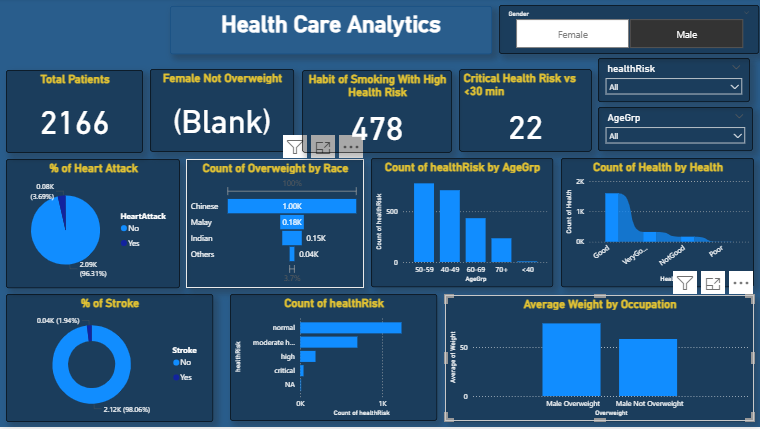

The page's visual inventory and layout, read from the dashboard file:
{"tool":"powerbi","page":{"name":"Page 1","canvas":[1280,720],"ordinal":0},"visuals":[{"type":"card","title":"Total Patients","fields":{"Values":["CountNonNull(Sample_Data.scnZone)"]},"box":[11.8,120.9,230.1,139.4],"z":0},{"type":"pieChart","title":"% of Heart Attack ","fields":{"Category":["Sample_Data.HeartAttack"],"Y":["CountNonNull(Sample_Data.HeartAttack)"]},"box":[11.8,270.4,292.3,216.7],"z":1000},{"type":"donutChart","title":"% of Stroke","fields":{"Category":["Sample_Data.Stroke"],"Y":["CountNonNull(Sample_Data.Stroke)"]},"box":[11.8,497.2,347.7,215],"z":2000},{"type":"card","title":"Female Not Overweight","fields":{"Values":["CountNonNull(Sample_Data.scnZone)"]},"box":[253.6,119.3,241.9,139.4],"z":3000},{"type":"barChart","title":"Count of healthRisk","fields":{"Category":["Sample_Data.healthRisk"],"Y":["CountNonNull(Sample_Data.healthRisk)"]},"box":[388,497.2,347.7,213.3],"z":4000},{"type":"treemap","title":"Average Weight by Occupation","fields":{"Group":["Sample_Data.OccupationType"],"Values":["Avg(Sample_Data.Weight)"]},"box":[760.9,498.9,507.3,211.7],"z":5000},{"type":"funnel","fields":{"Category":["Sample_Data.Race"],"Y":["CountNonNull(Sample_Data.Overweight)"]},"box":[314.1,270.4,299,216.7],"z":6000},{"type":"columnChart","fields":{"Category":["Sample_Data.AgeGrp"],"Y":["CountNonNull(Sample_Data.healthRisk)"]},"box":[624.9,268.8,305.7,216.7],"z":7000},{"type":"card","title":"Habit of Smoking With High Health Risk","fields":{"Values":["CountNonNull(Sample_Data.Smoking)"]},"box":[509,120.9,252,139.4],"z":8000},{"type":"card","title":"Critical Health Risk vs <30 min","fields":{"Values":["CountNonNull(Sample_Data.Exercise)"]},"box":[772.7,119.3,223.4,139.4],"z":9000},{"type":"slicer","fields":{"Values":["Sample_Data.Gender"]},"box":[839.9,11.8,436.7,82.3],"z":10000},{"type":"slicer","fields":{"Values":["Sample_Data.healthRisk"]},"box":[1006.2,100.8,255.3,73.9],"z":11000},{"type":"slicer","fields":{"Values":["Sample_Data.AgeGrp"]},"box":[1006.2,183.1,260.4,73.9],"z":12000},{"type":"ribbonChart","fields":{"Category":["Sample_Data.Health"],"Y":["CountNonNull(Sample_Data.Health)"]},"box":[944,268.8,324.2,216.7],"z":13000},{"type":"textbox","box":[287.2,13.4,540.9,80.6],"z":14000}]}

Visuals, with their boxes in screenshot pixels (x1, y1, x2, y2), scaled from the page's 1280x720 canvas onto the 760x429 screenshot:
"Total Patients" card: BBox(7, 72, 144, 155)
"% of Heart Attack " pieChart: BBox(7, 161, 181, 290)
"% of Stroke" donutChart: BBox(7, 296, 213, 424)
"Female Not Overweight" card: BBox(151, 71, 294, 154)
"Count of healthRisk" barChart: BBox(230, 296, 437, 423)
"Average Weight by Occupation" treemap: BBox(452, 297, 753, 423)
funnel - Sample_Data.Race x CountNonNull(Sample_Data.Overweight): BBox(186, 161, 364, 290)
columnChart - Sample_Data.AgeGrp x CountNonNull(Sample_Data.healthRisk): BBox(371, 160, 553, 289)
"Habit of Smoking With High Health Risk" card: BBox(302, 72, 452, 155)
"Critical Health Risk vs <30 min" card: BBox(459, 71, 591, 154)
slicer - Sample_Data.Gender: BBox(499, 7, 758, 56)
slicer - Sample_Data.healthRisk: BBox(597, 60, 749, 104)
slicer - Sample_Data.AgeGrp: BBox(597, 109, 752, 153)
ribbonChart - Sample_Data.Health x CountNonNull(Sample_Data.Health): BBox(560, 160, 753, 289)
textbox: BBox(171, 8, 492, 56)
